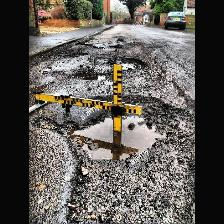pothole: (64, 92, 196, 184), (108, 54, 146, 72), (78, 72, 108, 80)
